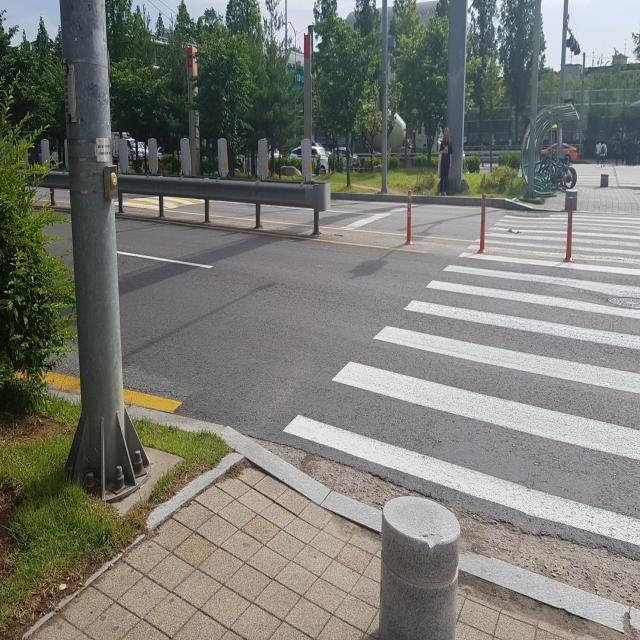횡단보도: (283, 214, 640, 554)
